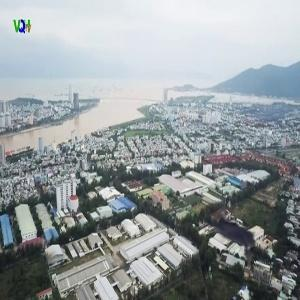drone: (185, 184, 288, 287)
